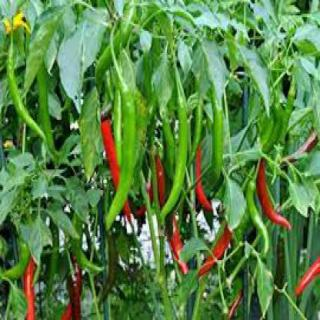green_chilli: (2, 32, 48, 146), (104, 82, 138, 233), (94, 5, 141, 97), (157, 101, 190, 222), (34, 44, 60, 158), (240, 180, 273, 256), (66, 217, 103, 281), (207, 106, 225, 176), (1, 243, 32, 282), (261, 101, 283, 154), (161, 117, 178, 185), (188, 104, 206, 168), (45, 222, 60, 298), (283, 75, 296, 130)
